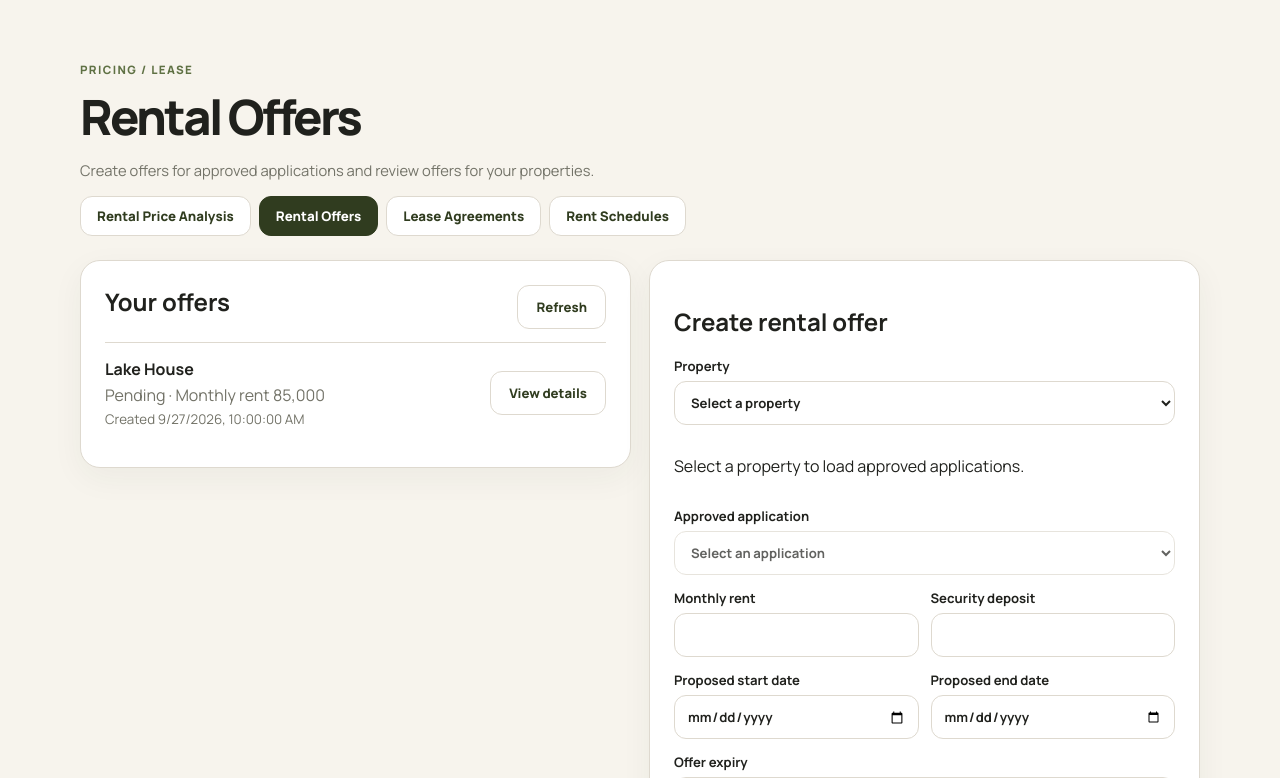
Test: landlord rental offers › renders the landlord offer list and loads details by ID
The width and height of the screenshot is (1280, 778).
Expected: the text "Pending · Monthly rent 85,000" is shown, [105,384,325,406]
What coordinates should you click on to do the following:
click the button "View details"
I would click on:
 (548, 393)
Its box is [490,371,606,415].
(page scrolled)
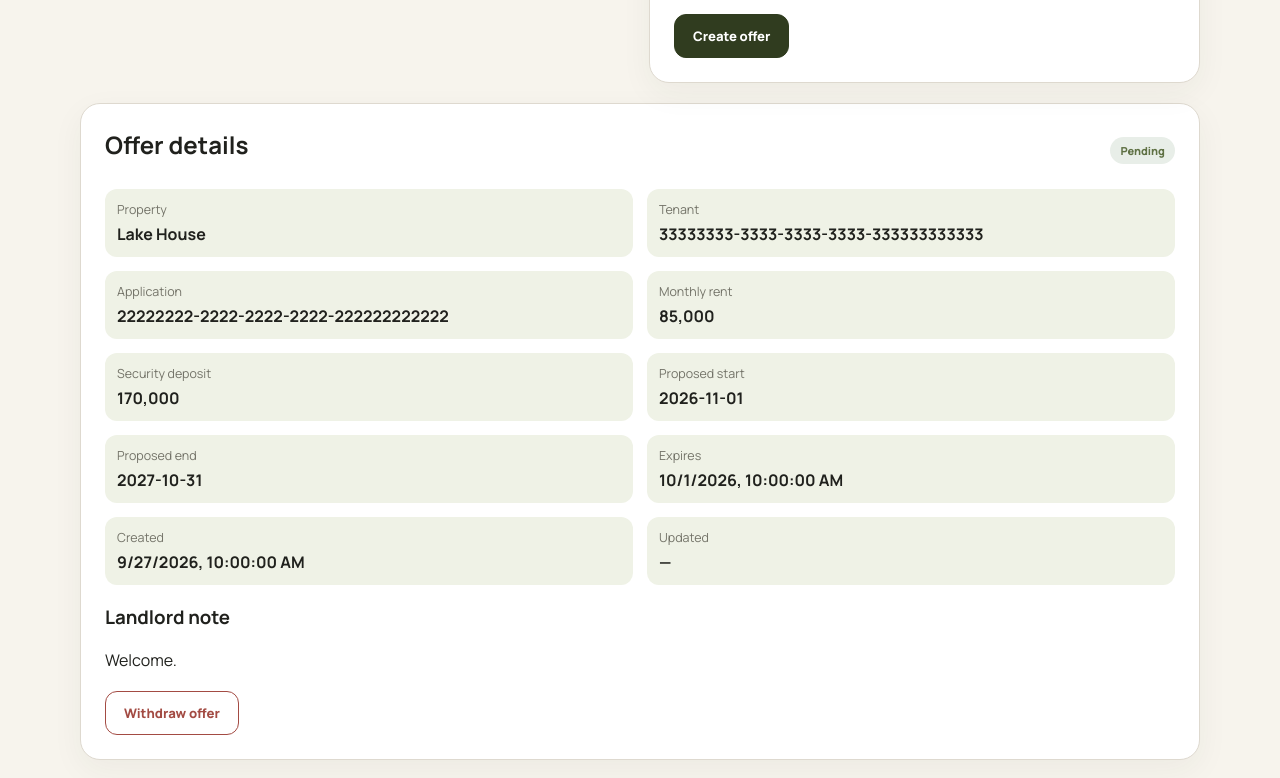
Expected: the text "Welcome." is shown, [105,649,177,671]
Expected: the text "170,000" is shown, [117,388,180,410]
